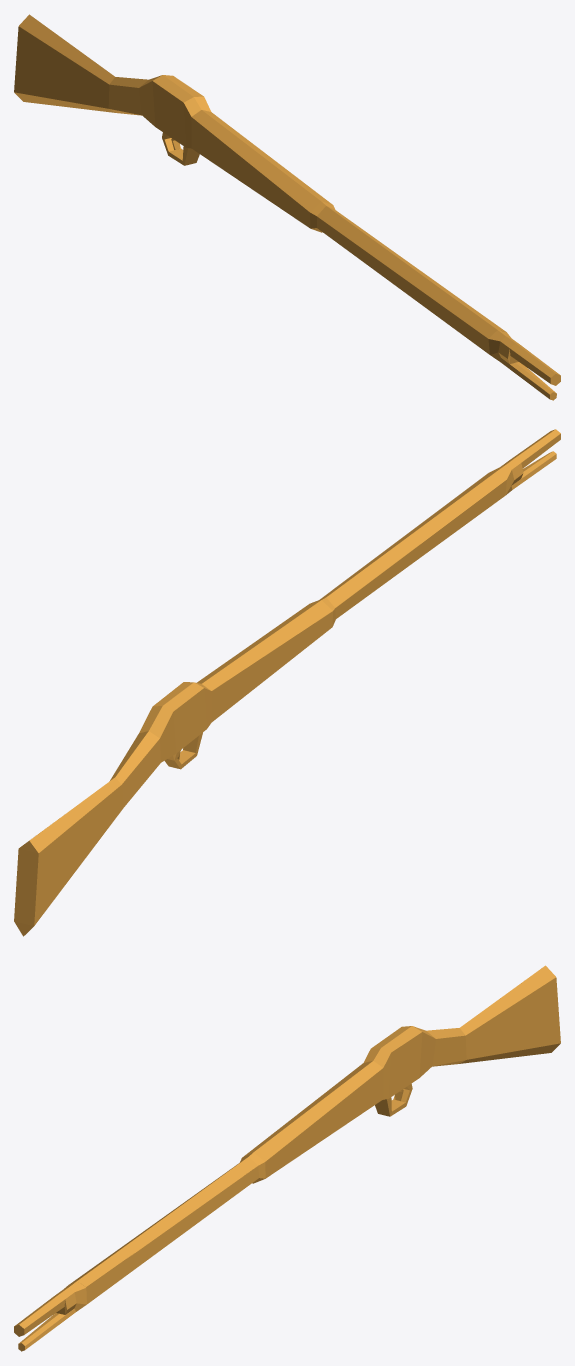
The model's file is rifle-british.fbx.
The picture shows the model from 3 angles, top to bottom: view 1: azimuth 30°, elevation 25°; view 2: azimuth 150°, elevation 25°; view 3: azimuth 330°, elevation 25°; orthographic projection.
Parts seen in each view (by area): view 1: rifle-british; view 2: rifle-british; view 3: rifle-british.
Boxes of the visible parts, left/top/right/bottom form: rifle-british: left=14, top=14, right=560, bottom=400; rifle-british: left=14, top=429, right=560, bottom=936; rifle-british: left=14, top=965, right=560, bottom=1351.
Bounding box in the file's own units: 0.0314 × 0.1643 × 1.22.
